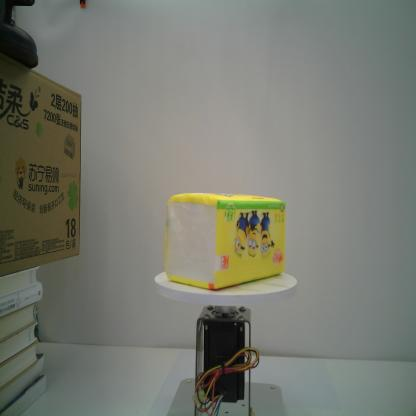Tissue: (162, 190, 288, 292)
